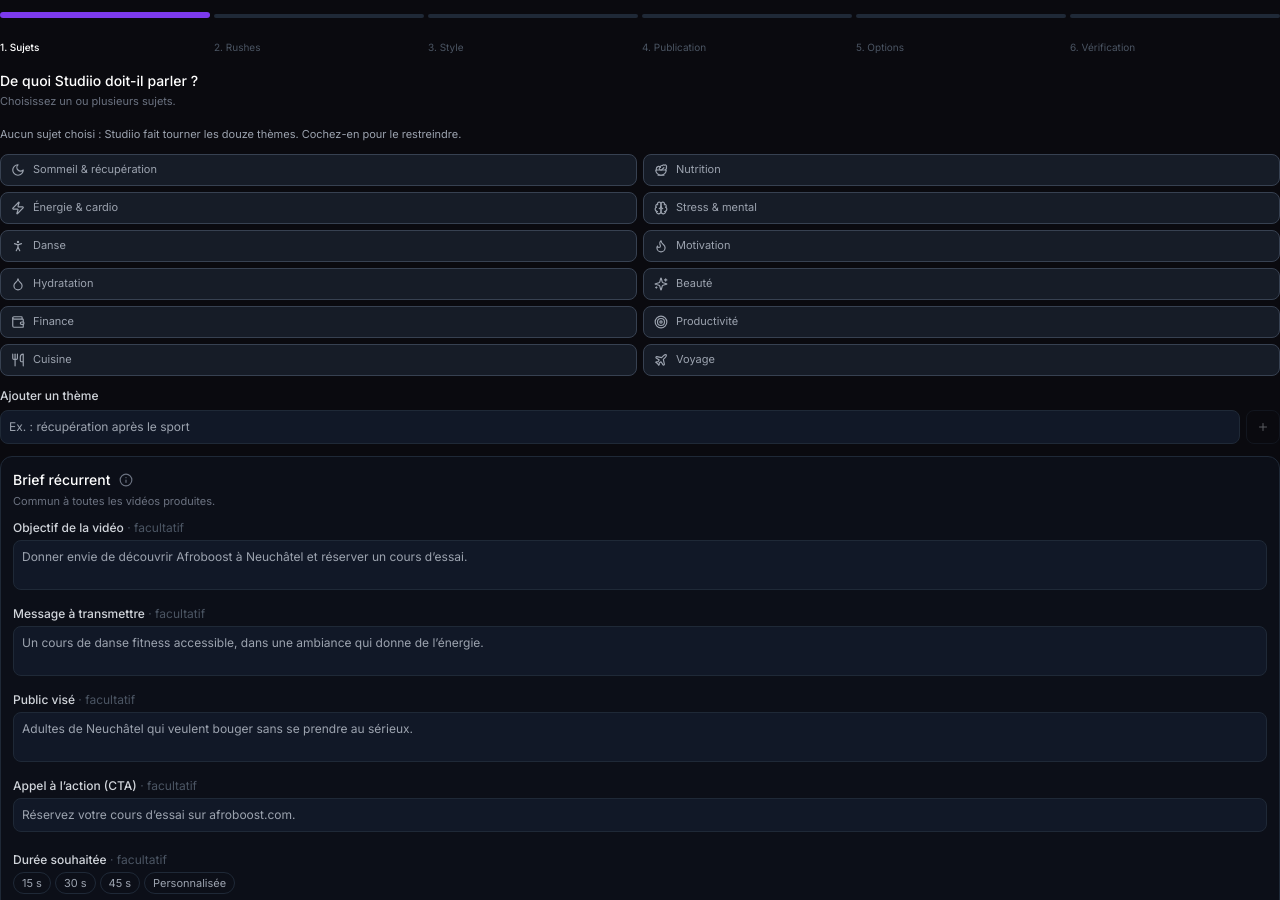
Test case: Sans vérification (réseau indisponible) : l écran d avant › tous les rushes comptent tant que rien n est prouvé
Click the button named "Rushes". click: [319, 16]
box: [214,14,424,18]
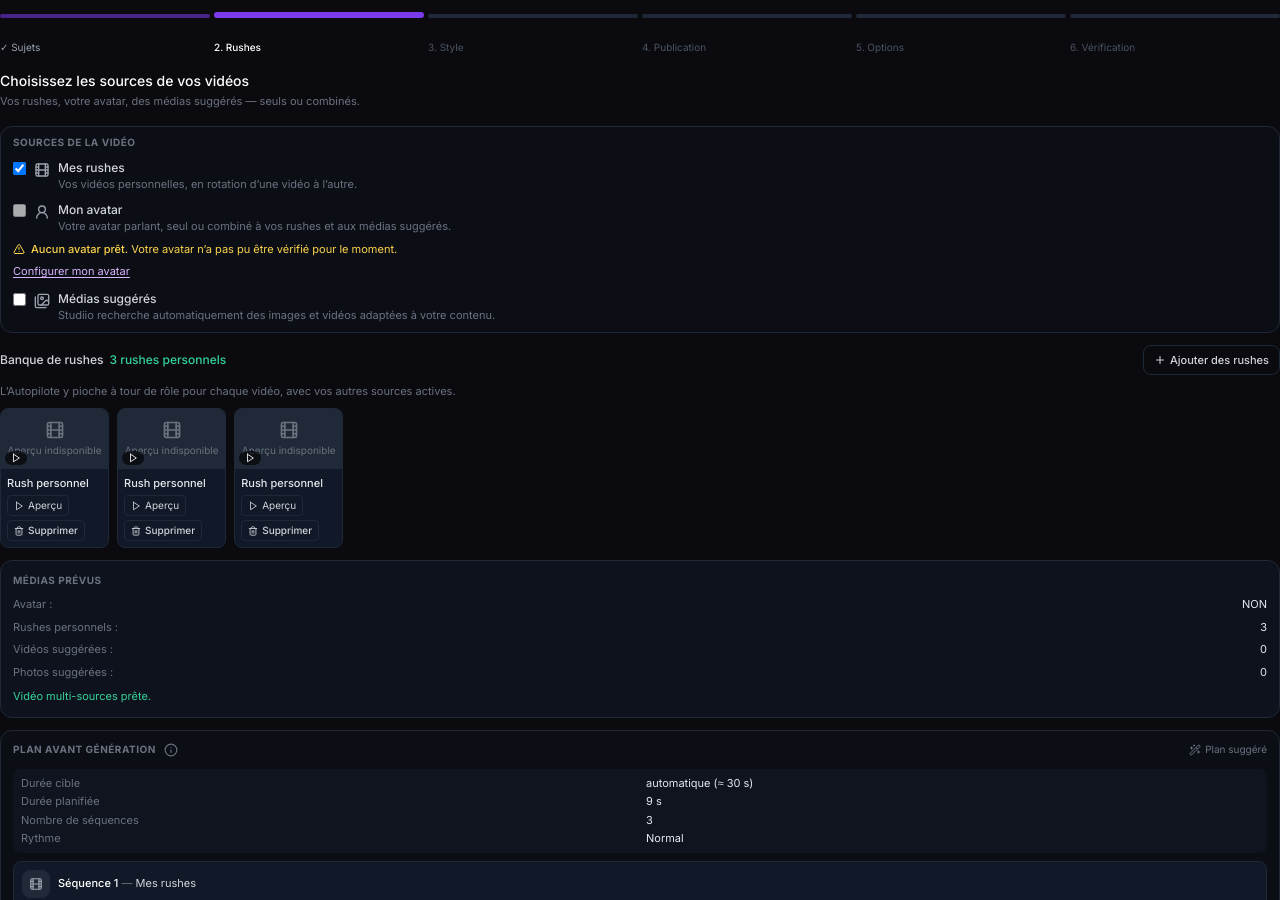
Result: the button "Ajouter des rushes" is shown at [1143,344,1279,375]
